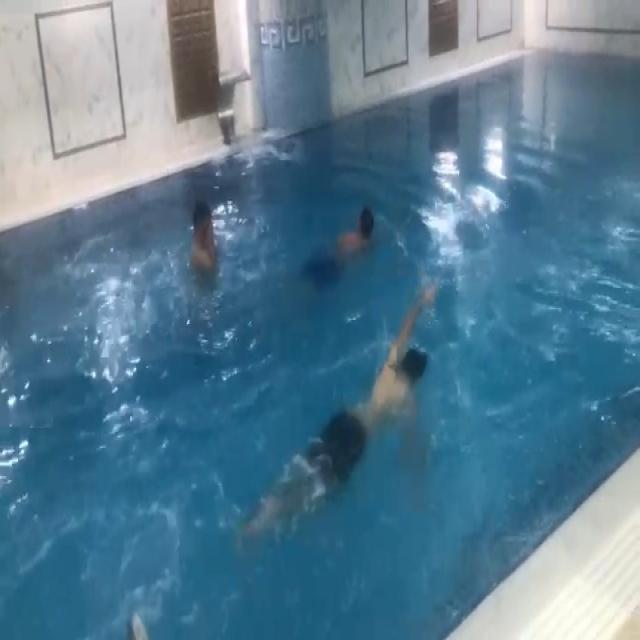Swimming: (243, 283, 437, 541), (298, 204, 390, 289), (190, 199, 220, 271)
